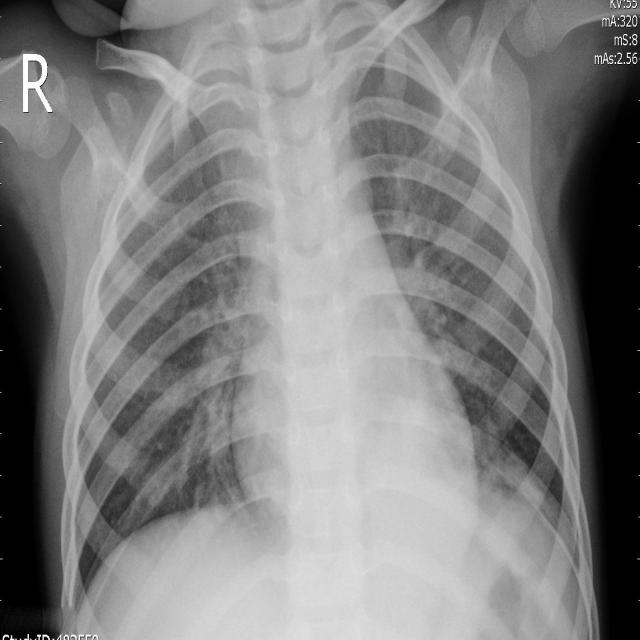low-pneumonia: (390, 165, 480, 367), (184, 218, 251, 483)
